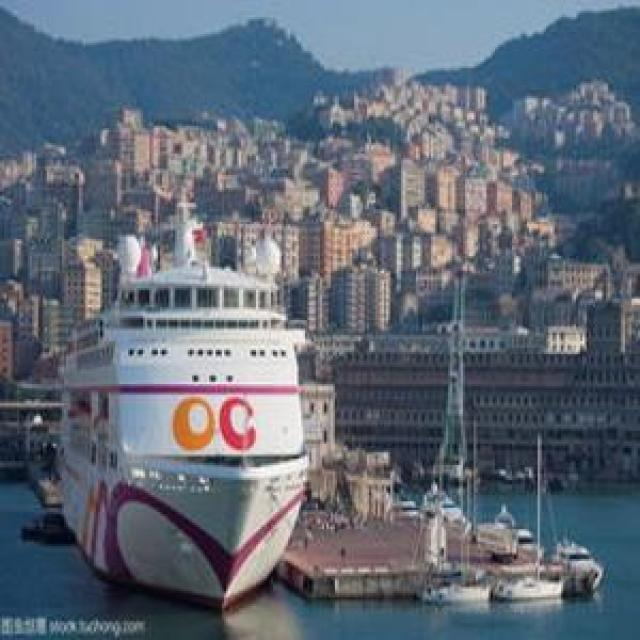houseboat: (547, 538, 605, 595), (424, 572, 497, 610), (504, 567, 572, 604)
passenger ship: (47, 242, 307, 612)
